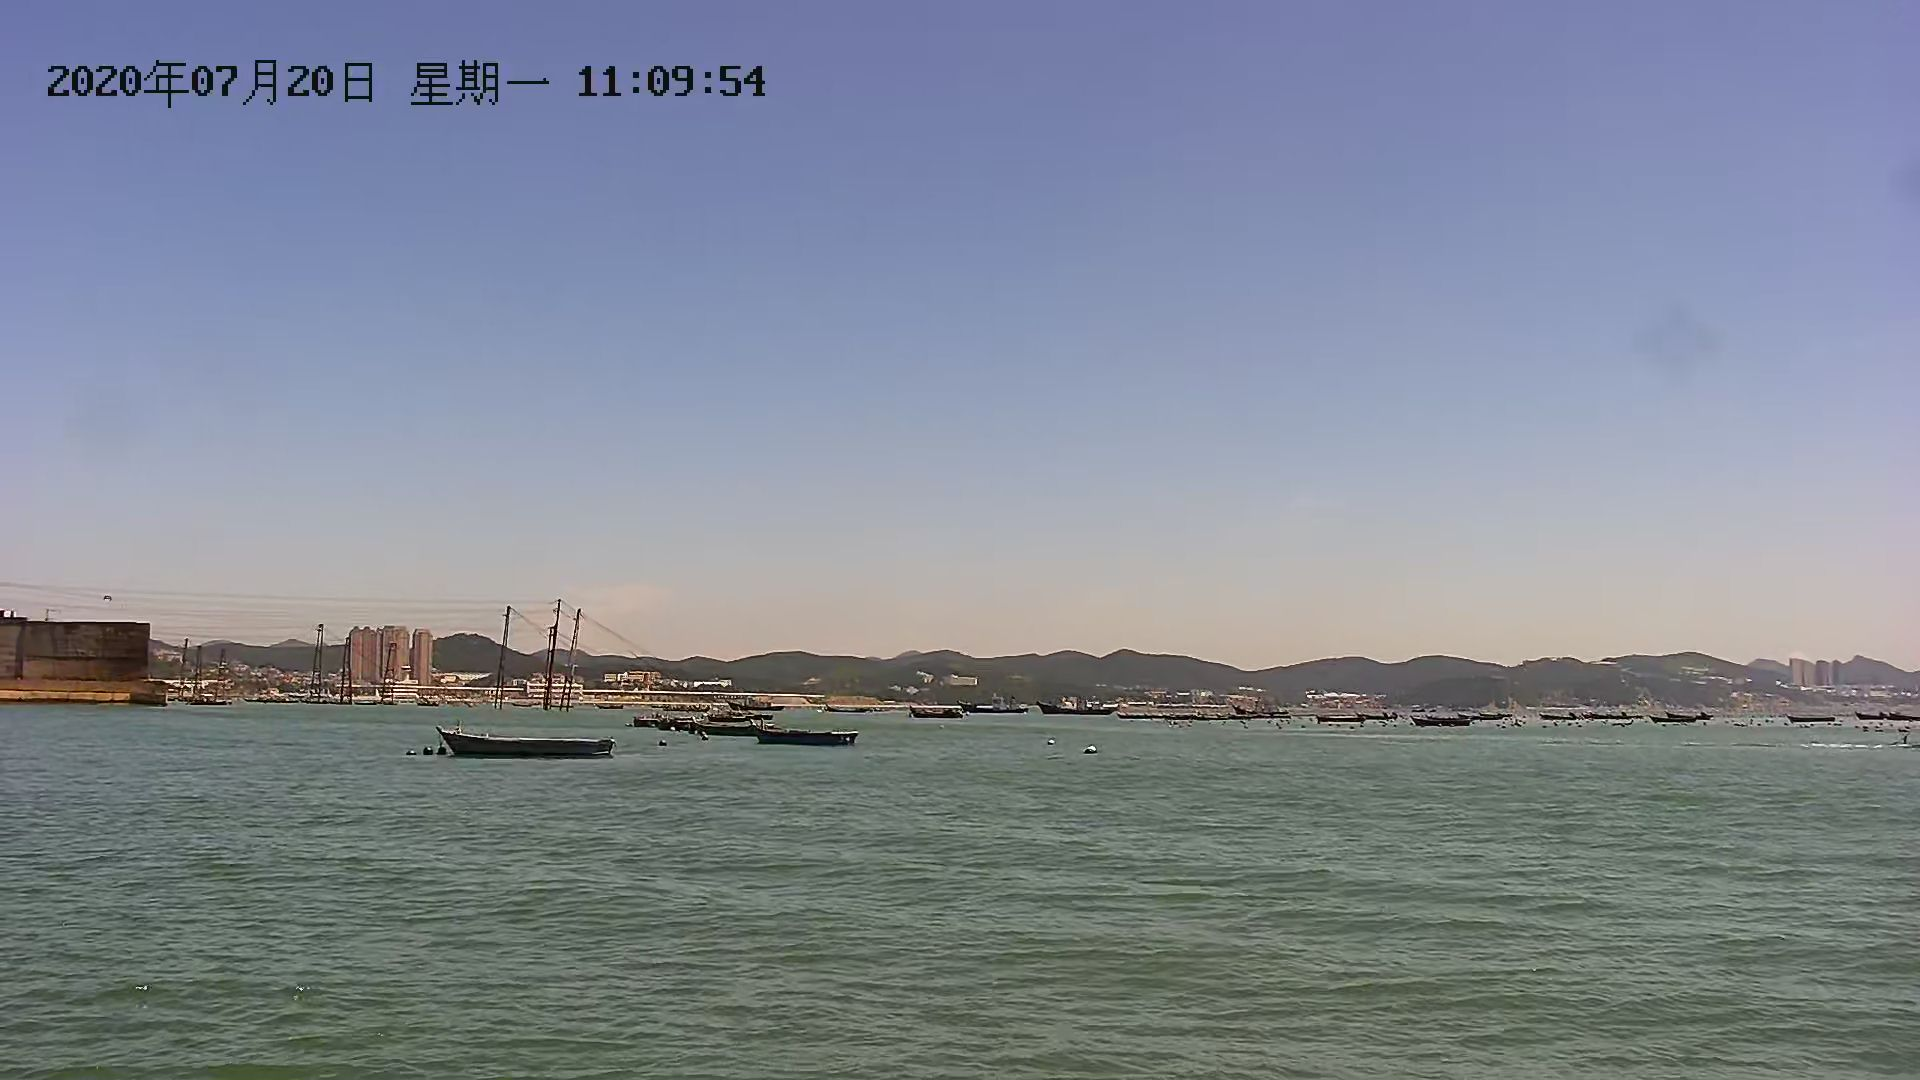boat: (435, 723, 616, 762), (637, 715, 793, 732), (688, 713, 789, 738), (760, 728, 870, 749), (1412, 709, 1477, 735)
